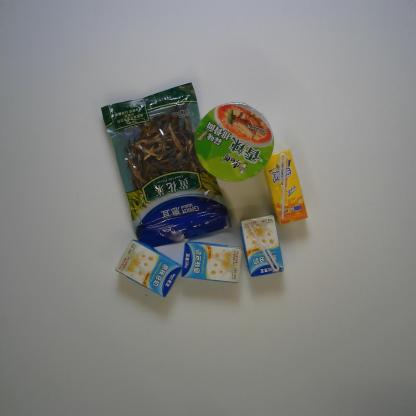Dried Food: (100, 81, 233, 248)
Drink: (263, 148, 308, 226)
Instant Noodles: (193, 101, 275, 183)
Milk: (115, 239, 182, 297), (240, 214, 284, 278), (180, 241, 242, 284)
